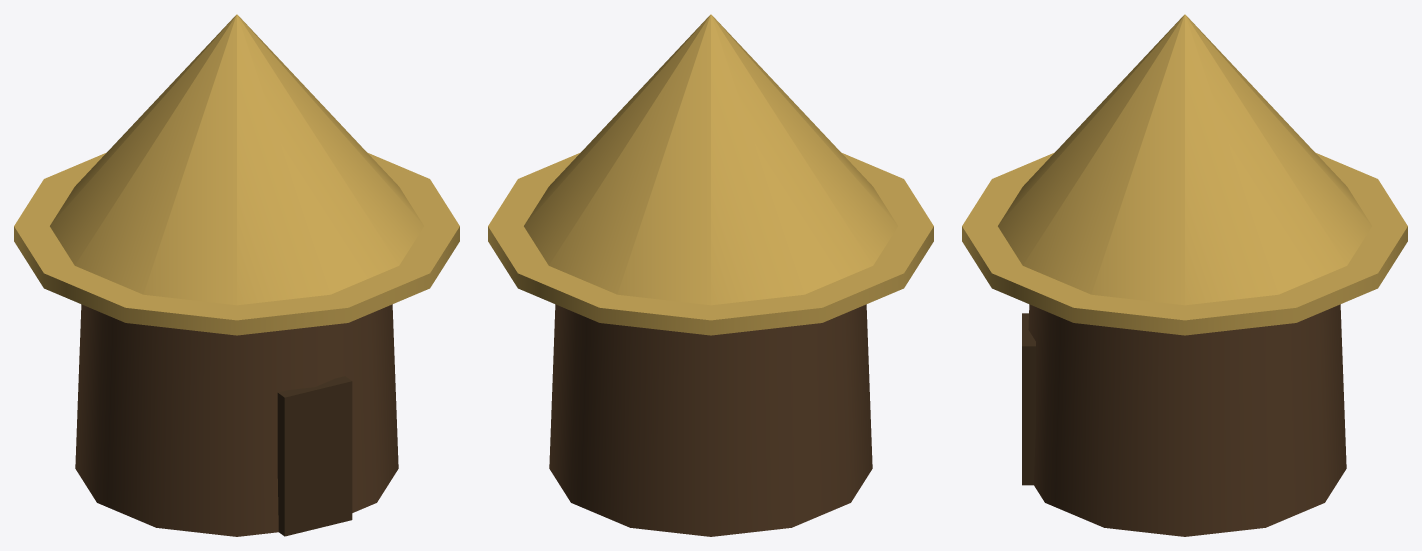
The model's file is roundhouse.glb.
3 renders of one model, left to right at view 1: azimuth 30°, elevation 25°; view 2: azimuth 150°, elevation 25°; view 3: azimuth 270°, elevation 25°, orthographic.
Size of the model in its own units: 1.6 by 1.8 by 1.6.
